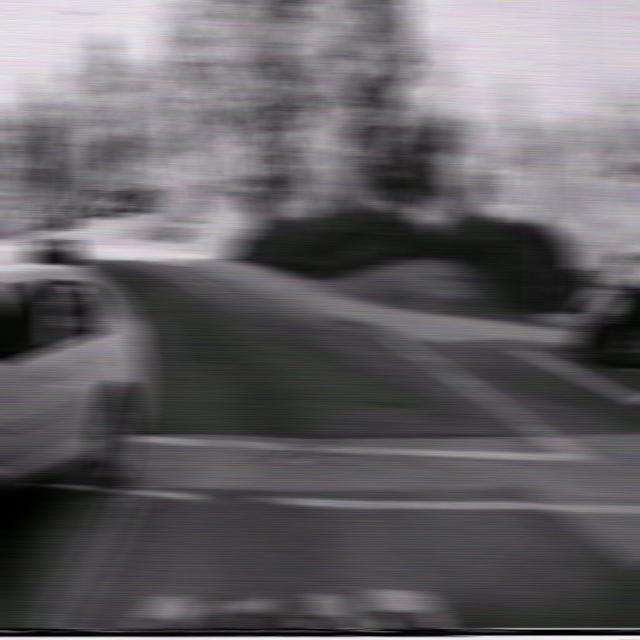pedestrianCrossing: (46, 180, 71, 207)
